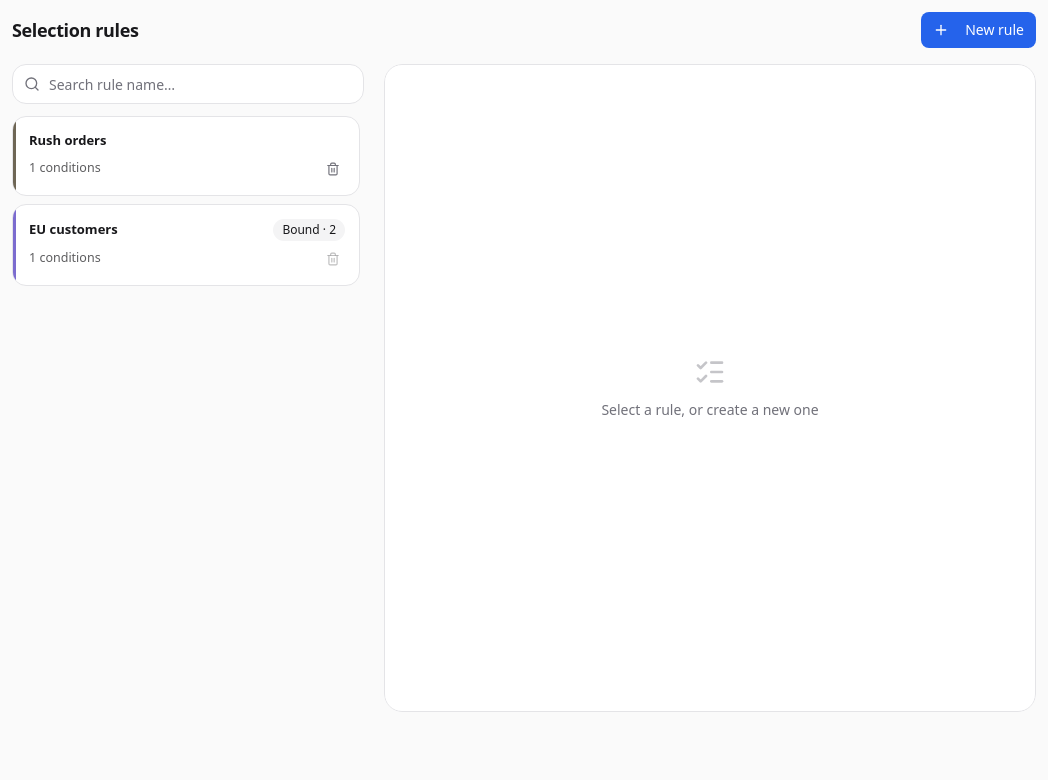
RulesTab -- selection and create › selecting a rule row shows the editor with that rule loaded
Step 1. Click the text "Rush orders" → click(68, 140), box [29,131,106,149]
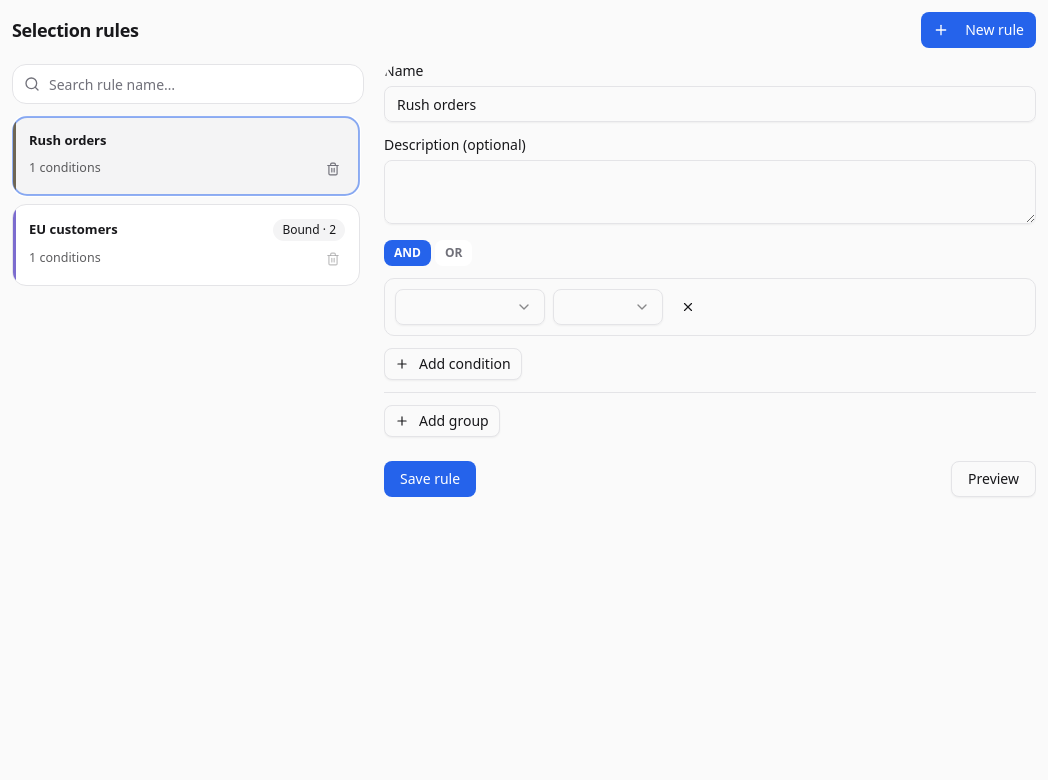
Result: the element with test id "rule-editor" is shown at [384,64,1036,497]
Result: the field with test id "rule-name-input" holds "Rush orders" at [384,86,1036,122]
